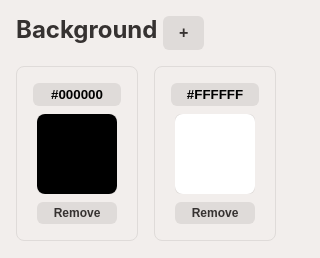
Test: BackgroundSection Component › removes a color when the remove button is clicked
What coordinates should you click on to do the following:
click the button with aria-label "Remove selected color bg-1"
I would click on:
 (77, 213)
Its box is [37,202,117,224].
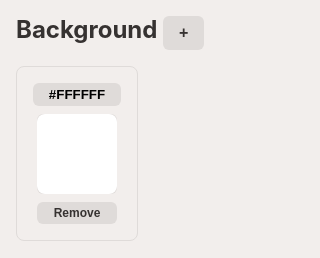
Expected: the number of fields is 1, [33,83,121,106]
Expected: the field holds "#FFFFFF", [33,83,121,106]
